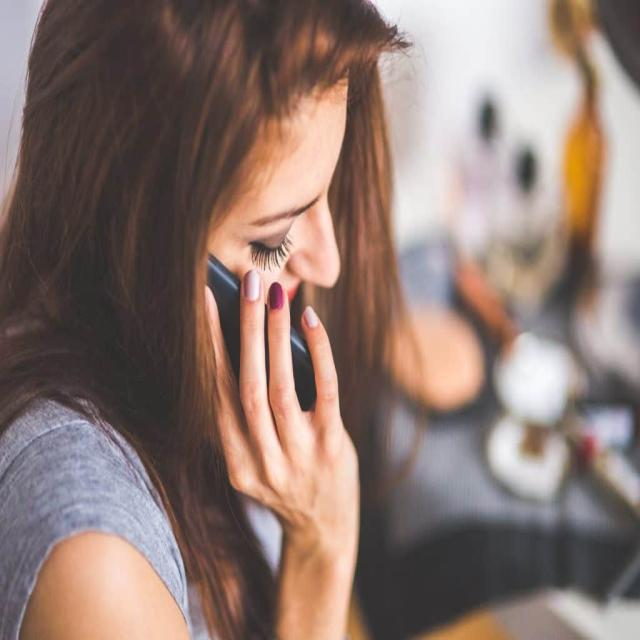phone: (203, 254, 316, 414)
